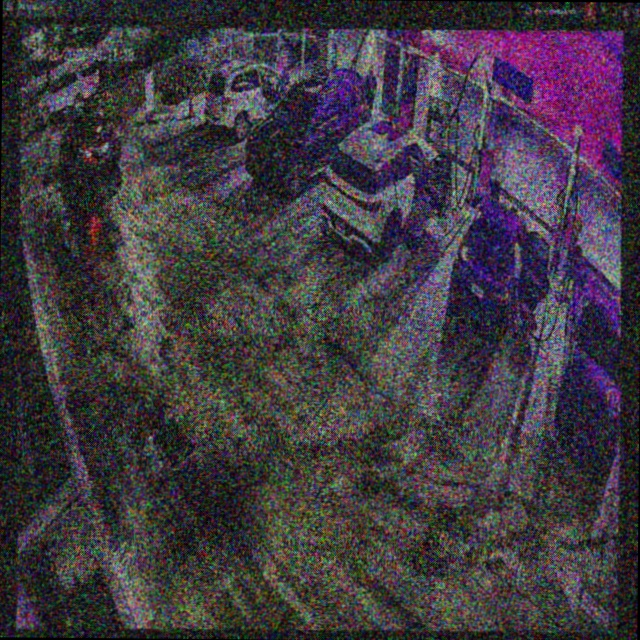Car: (323, 122, 448, 256), (245, 68, 369, 190), (449, 197, 549, 344)
